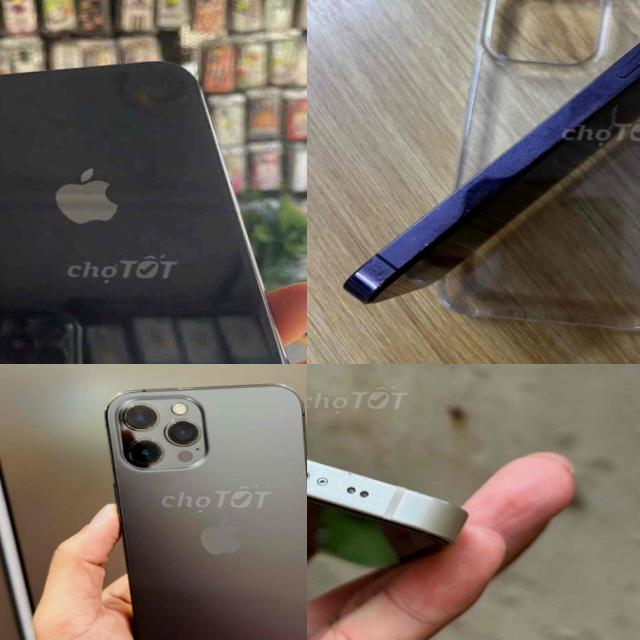scratch: (415, 230, 454, 266)
